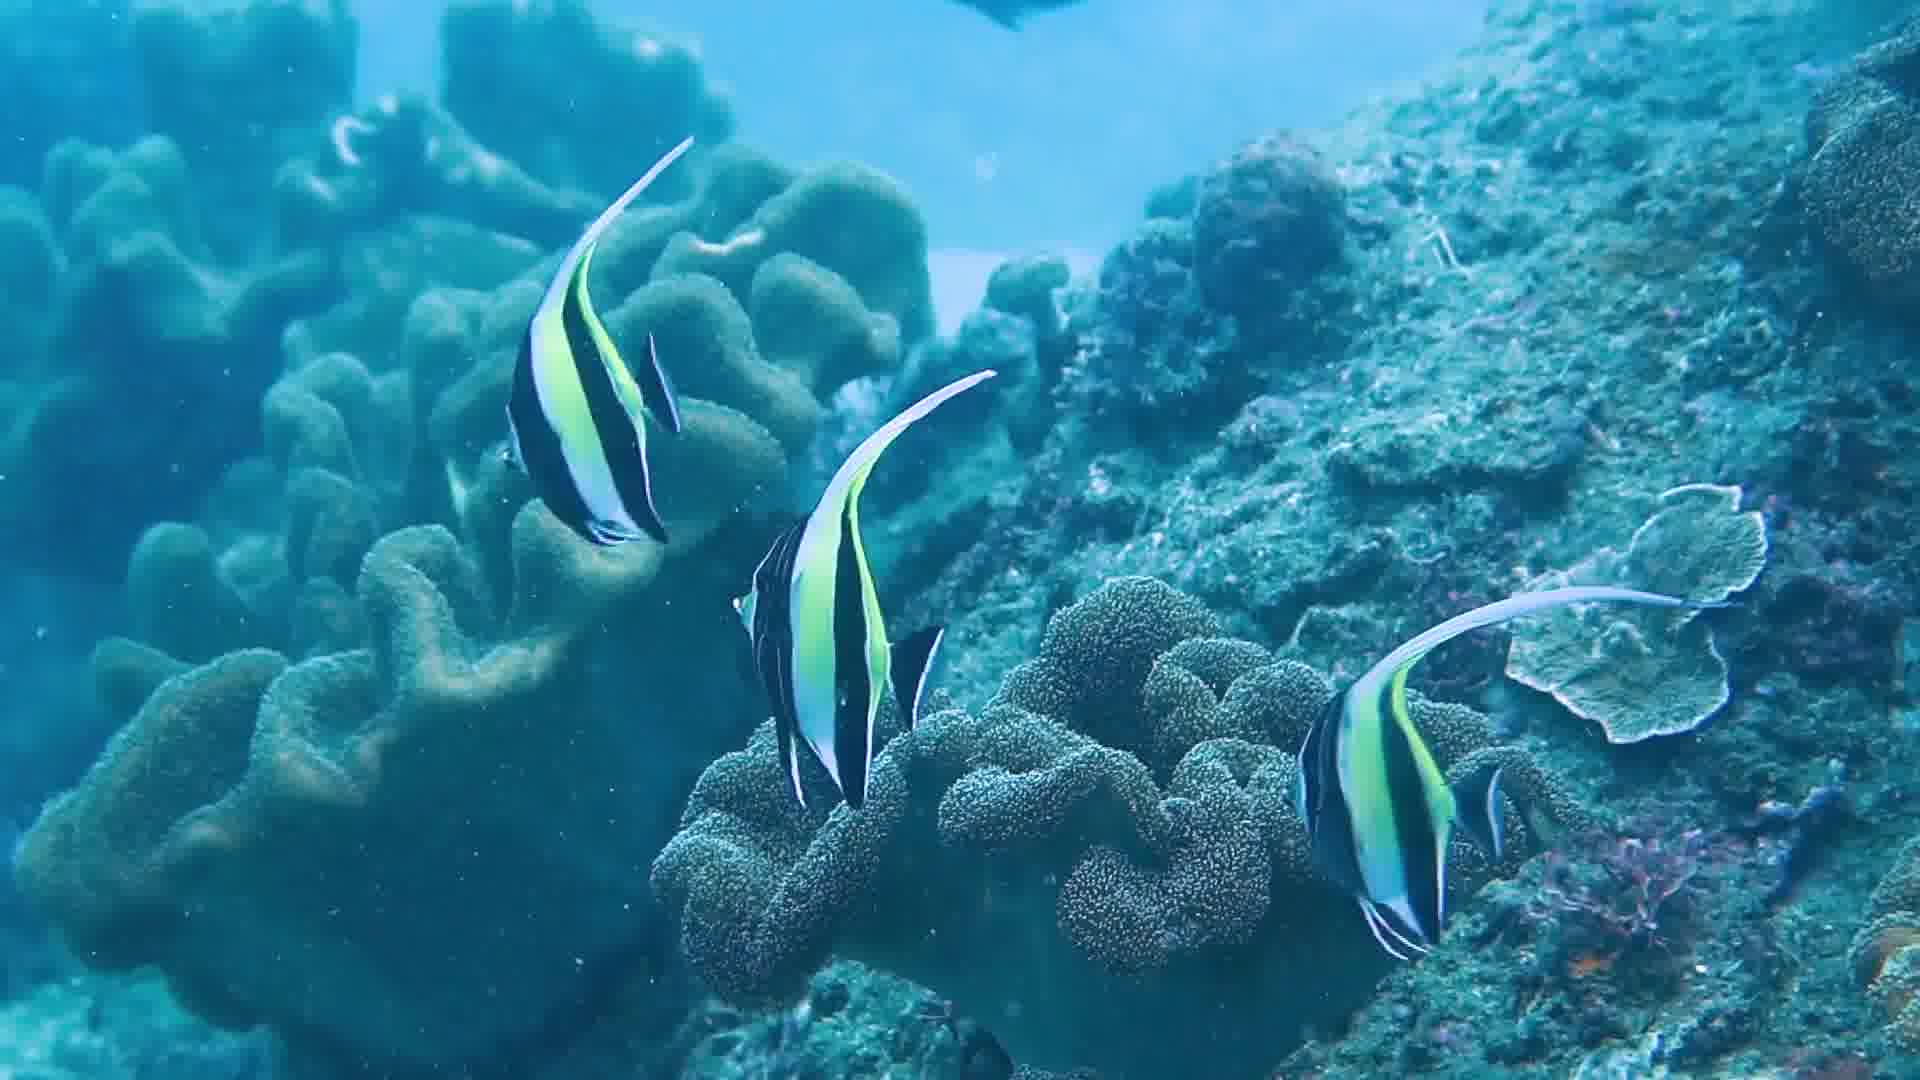Zanclus cornutus: (715, 460, 959, 840), (1273, 601, 1516, 981), (473, 237, 709, 574)
